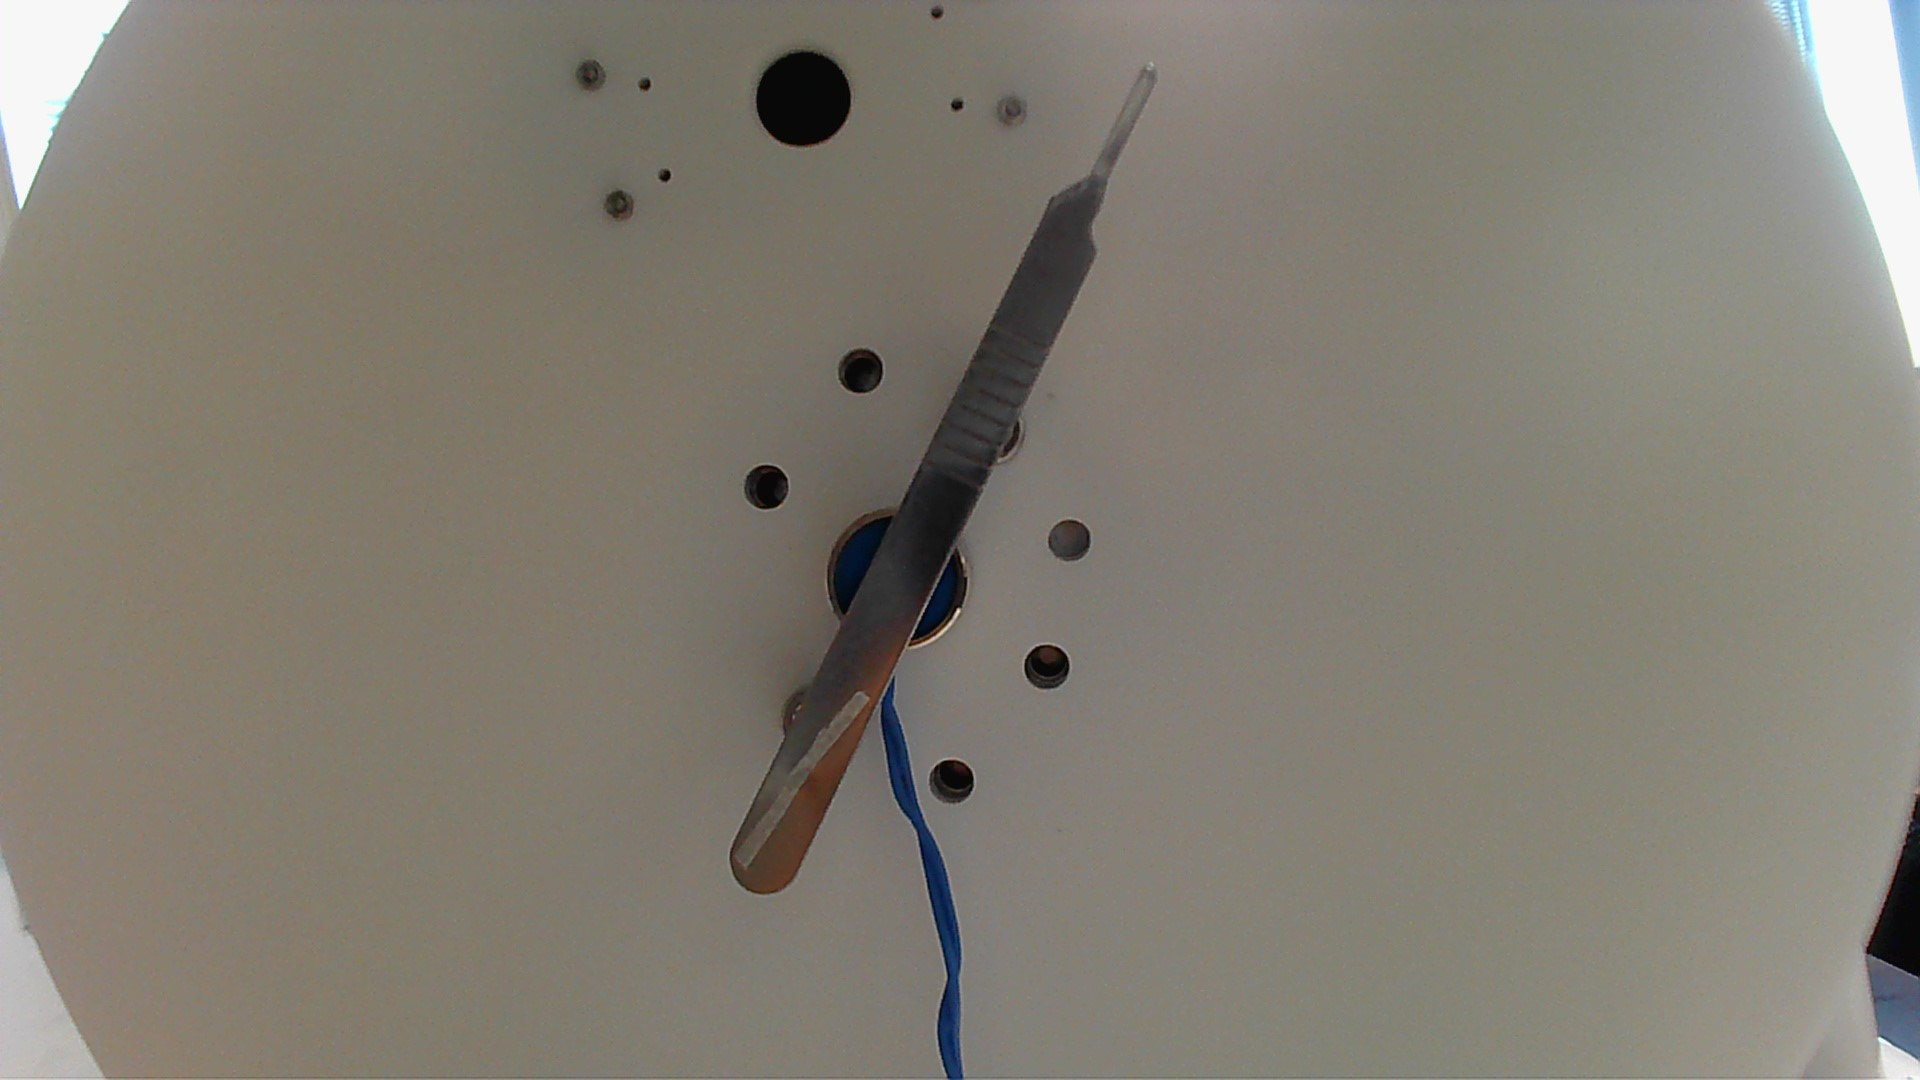Scratches: (728, 683, 877, 874)
